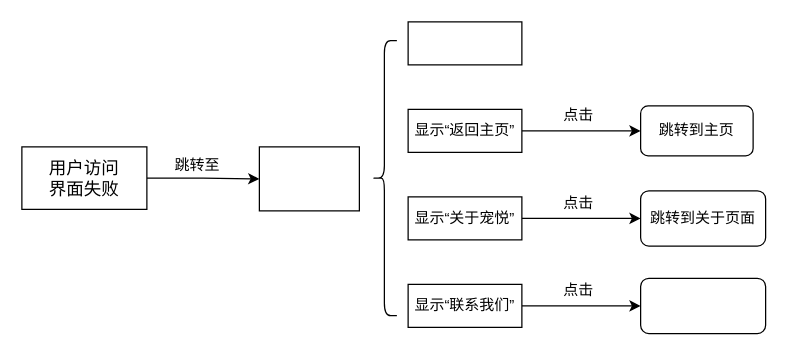
Some shapes in this 788 by 356 pixel diagram are drawn without their labels. The box of each missing label's shape, as (x1, y1, x2, y2) in pixels:
404界面: (258, 146, 359, 211)
显示提示信息: (407, 21, 522, 65)
跳转到 联系我们页面: (639, 277, 766, 334)
